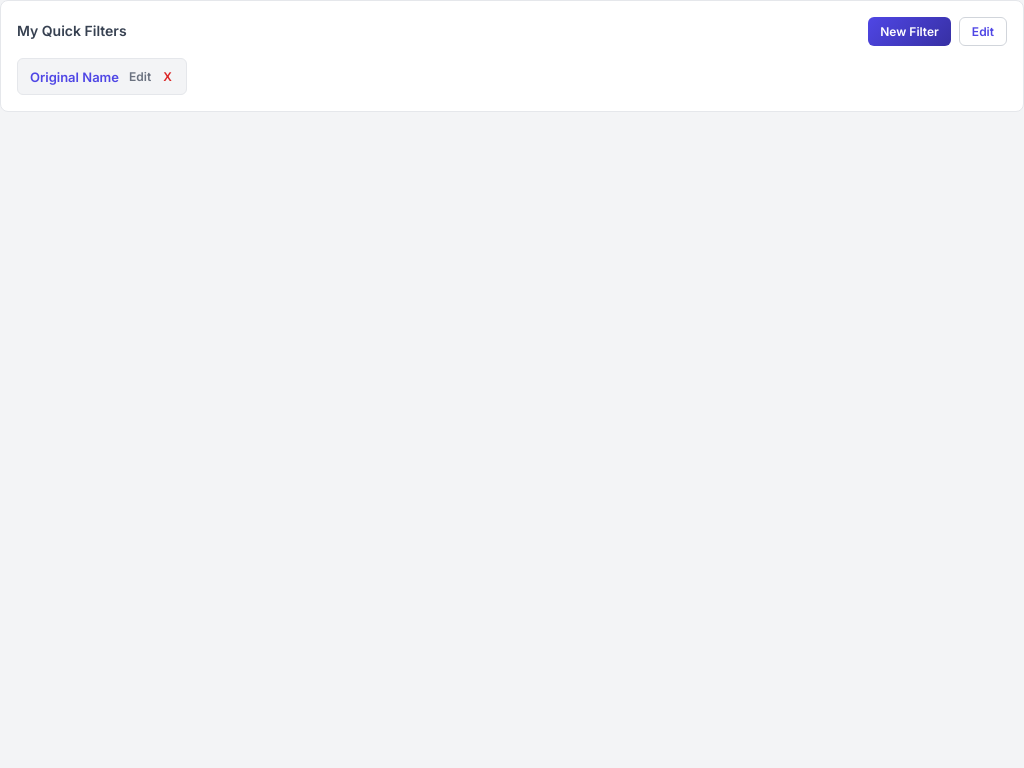
QuickFilters › edits a saved filter
The width and height of the screenshot is (1024, 768).
// Click edit button
Click the 2nd button titled "Edit filter" at {"x": 140, "y": 76}, box [127,67,153,86]
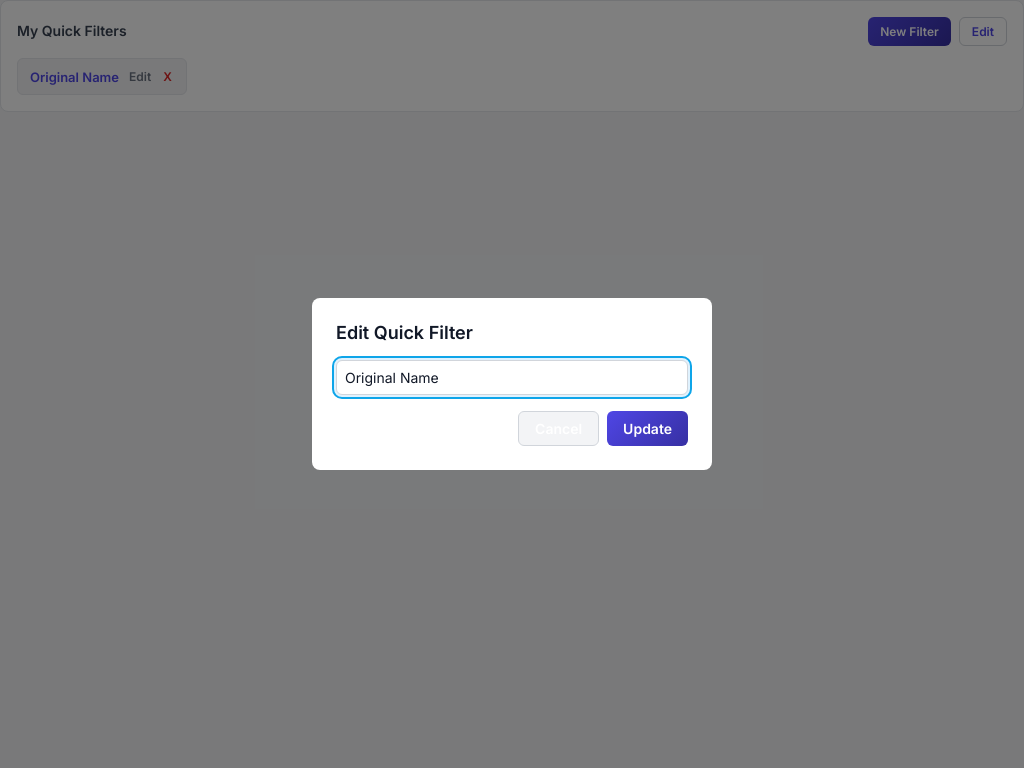
// Change name
Replace the text in the field with placeholder "Filter name..." with "Updated Name" at {"x": 512, "y": 377}, box [336,360,688,395]
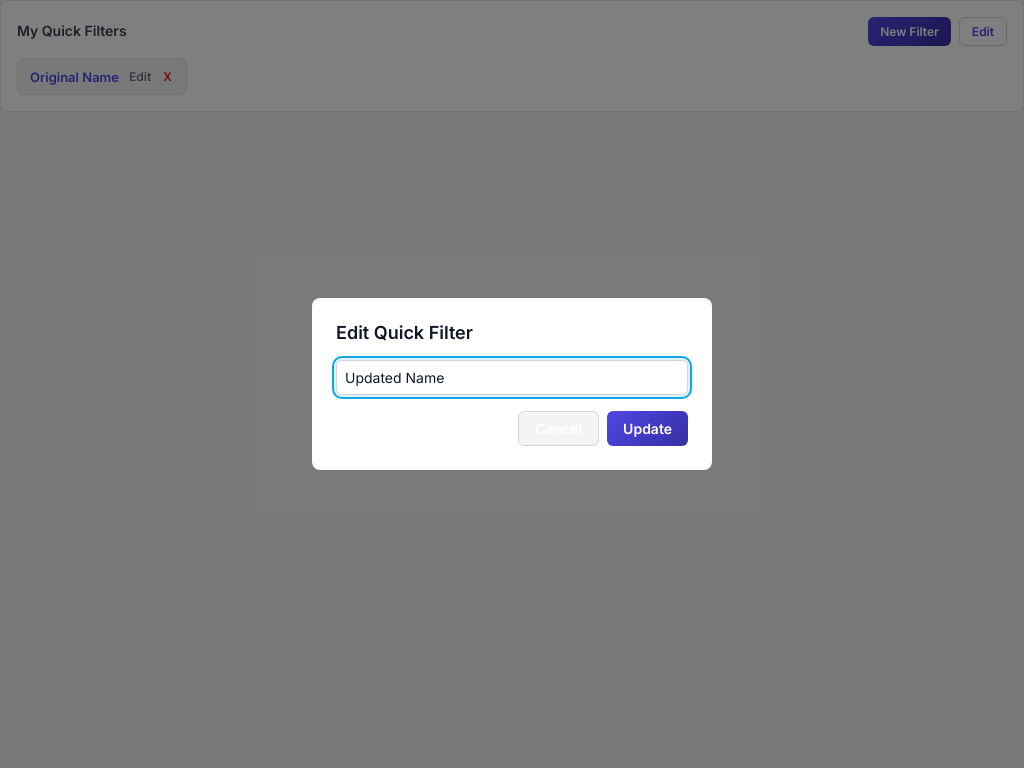
// Click update
Click the button "Update" at {"x": 648, "y": 428}, box [607,411,688,446]
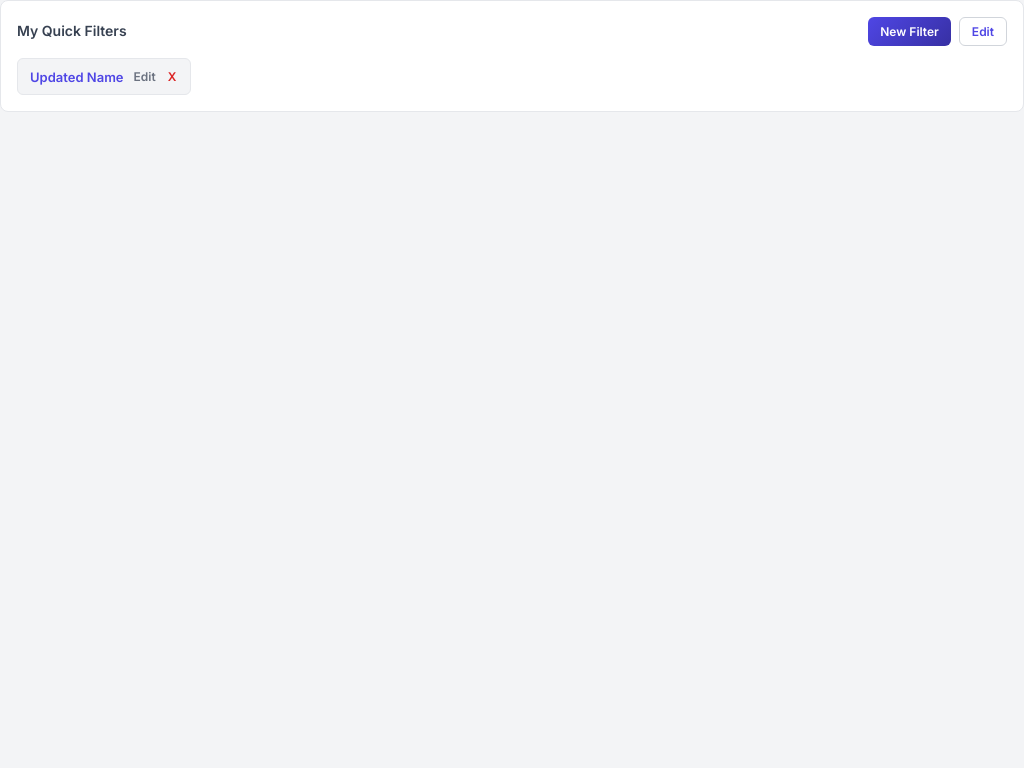
Check: the button "Updated Name" is shown, box [30,68,124,84]
Check: the button "Original Name" is gone
